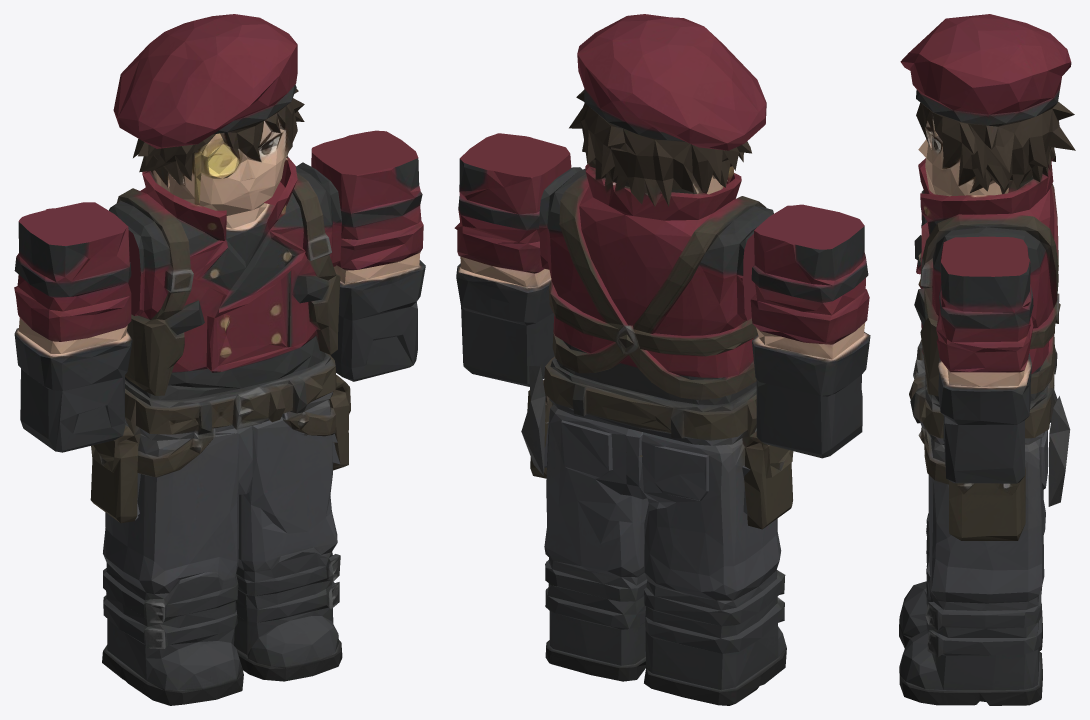
File: Bram_R6_Auto.fbx
3 renders of one model, left to right at view 1: azimuth 30°, elevation 25°; view 2: azimuth 150°, elevation 25°; view 3: azimuth 270°, elevation 25°, orthographic.
Visible parts, largest first — view 1: Torso, Head, RightLeg, RightArm, LeftLeg, LeftArm; view 2: Torso, Head, RightLeg, RightArm, LeftLeg, LeftArm; view 3: Head, LeftLeg, LeftArm, Torso, RightLeg.
Part boxes in pixels (x1,y1,x2,y2): Torso: (90,162,350,523); Head: (113,14,304,220); RightLeg: (102,447,246,705); RightArm: (14,202,132,452); LeftLeg: (234,413,348,681); LeftArm: (311,130,425,381); Torso: (521,167,793,529); Head: (569,14,766,218); RightLeg: (632,454,786,705); RightArm: (750,204,870,458); LeftLeg: (523,421,648,681); LeftArm: (454,133,571,386); Head: (900,14,1075,216); LeftLeg: (899,440,1064,705); LeftArm: (936,236,1033,483); Torso: (909,170,1070,540); RightLeg: (899,490,1045,651).
Bounding box in the file's own units: 3.68 × 5.78 × 1.45.
1 material, 1 textured.
